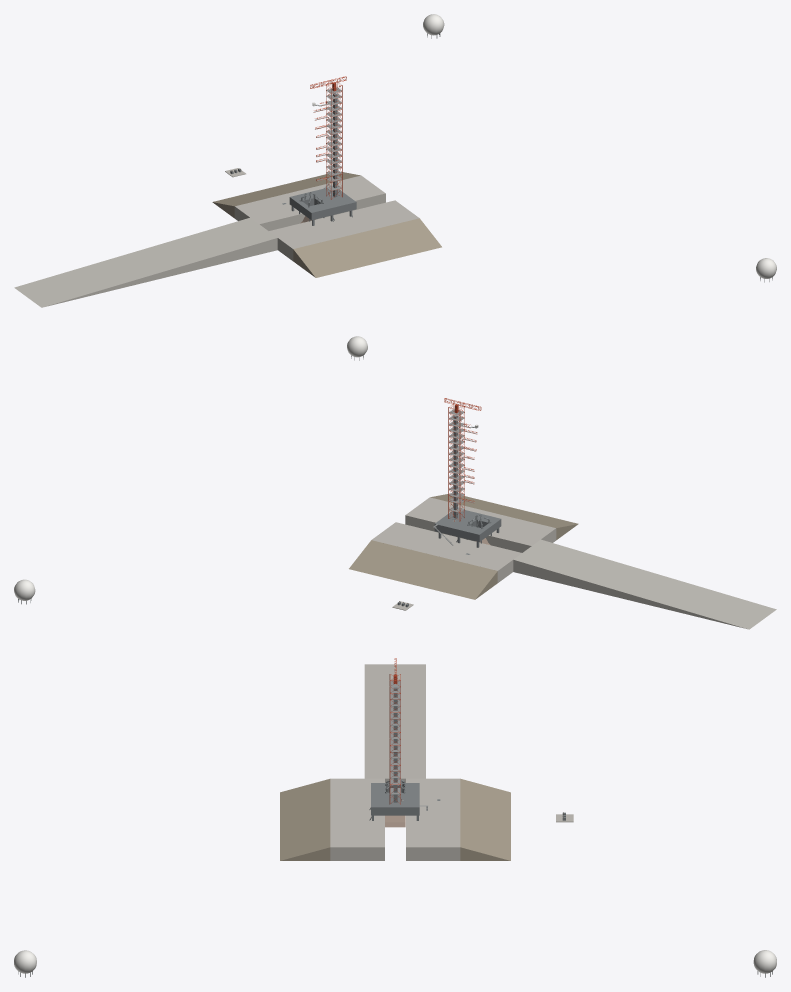
File: pad-a.lod2.glb
3 renders of one model, top to bottom at view 1: azimuth 30°, elevation 25°; view 2: azimuth 150°, elevation 25°; view 3: azimuth 270°, elevation 25°, orthographic. The views are drawn at different scales.
Parts seen in each view (by area): view 1: Hardstand_Concrete, Hardstand_Earth, Launcher_Base_Steel, Umbilical_Tower_Deck, Umbilical_Tower_Red, Storage_Spheres_White; view 2: Hardstand_Concrete, Hardstand_Earth, Launcher_Base_Steel, Umbilical_Tower_Red, Umbilical_Tower_Deck, Storage_Spheres_White; view 3: Hardstand_Concrete, Hardstand_Earth, Launcher_Base_Steel, Umbilical_Tower_Deck, Storage_Spheres_White, Umbilical_Tower_Red.
Boxes of the visible parts, x1,y1,x2,y2 form: Hardstand_Concrete: (14,175,419,307); Hardstand_Earth: (212,171,441,277); Launcher_Base_Steel: (289,188,356,220); Umbilical_Tower_Deck: (326,87,341,190); Umbilical_Tower_Red: (326,82,342,199); Storage_Spheres_White: (423,14,776,278); Hardstand_Concrete: (372,497,776,629); Hardstand_Earth: (349,493,578,599); Launcher_Base_Steel: (434,510,501,541); Umbilical_Tower_Red: (448,404,464,521); Umbilical_Tower_Deck: (448,409,464,512); Storage_Spheres_White: (14,336,367,600); Hardstand_Concrete: (330,664,460,860); Hardstand_Earth: (280,778,510,860); Launcher_Base_Steel: (371,783,419,815); Umbilical_Tower_Deck: (390,680,400,794); Storage_Spheres_White: (14,950,776,973); Umbilical_Tower_Red: (389,674,400,804).
Size of the model in its own units: 630 by 149 by 644.
